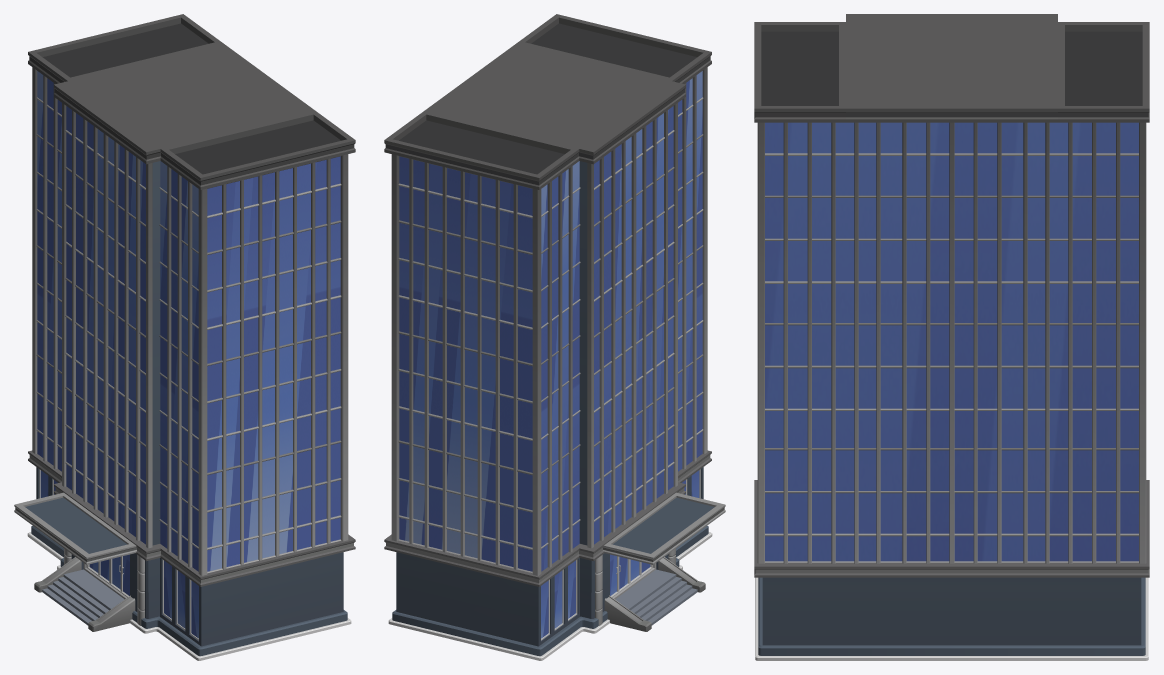
The model's file is Building_17_2_KK.fbx.
The picture shows the model from 3 angles, left to right: view 1: azimuth 30°, elevation 25°; view 2: azimuth 150°, elevation 25°; view 3: azimuth 270°, elevation 25°; orthographic projection. The views are drawn at different scales.
Parts seen in each view (by area): view 1: Building_17_2_KK; view 2: Building_17_2_KK; view 3: Building_17_2_KK.
Part boxes in pixels (x1,y1,x2,y2): Building_17_2_KK: [14, 14, 355, 660]; Building_17_2_KK: [384, 14, 725, 660]; Building_17_2_KK: [754, 14, 1149, 660].
Size of the model in its own units: 857 by 1805 by 1168.
